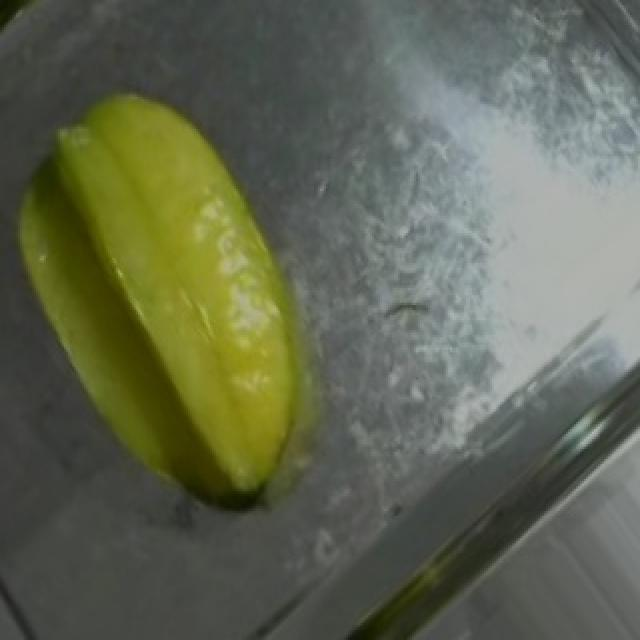fruit: (6, 47, 356, 452)
